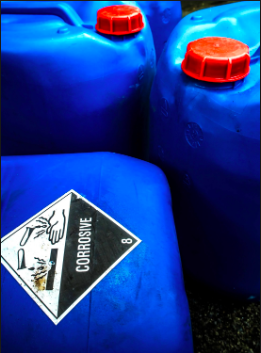Corrosive: (5, 192, 141, 308)
